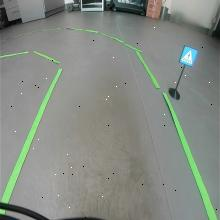crosswalk: (179, 45, 198, 67)
